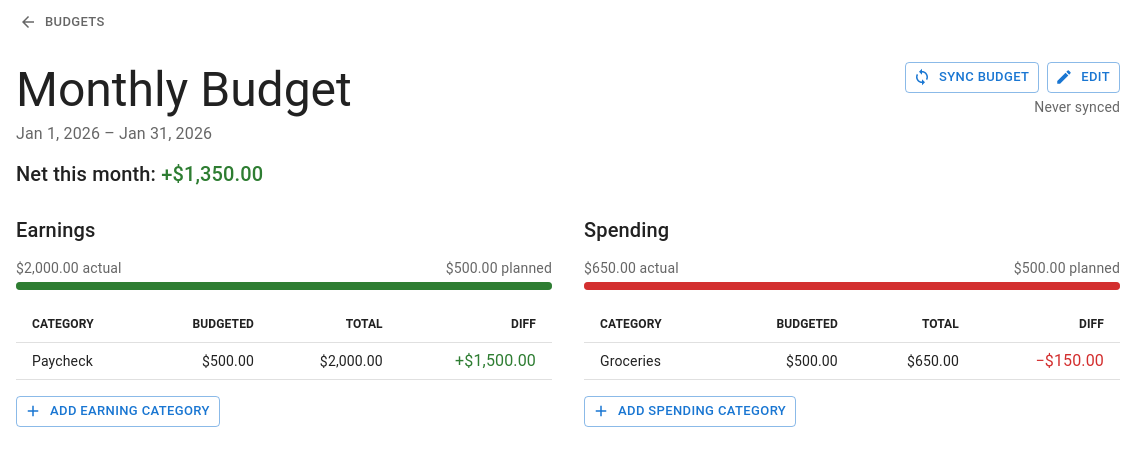
Test: BudgetDetailPage net this month › excludes a staged (not yet confirmed) delete from the net figure
expect the text "+$1,350.00" is shown: met, box [161, 162, 263, 186]
Click the button "Edit". click: coordinates (1084, 77)
box: [1047, 62, 1120, 93]
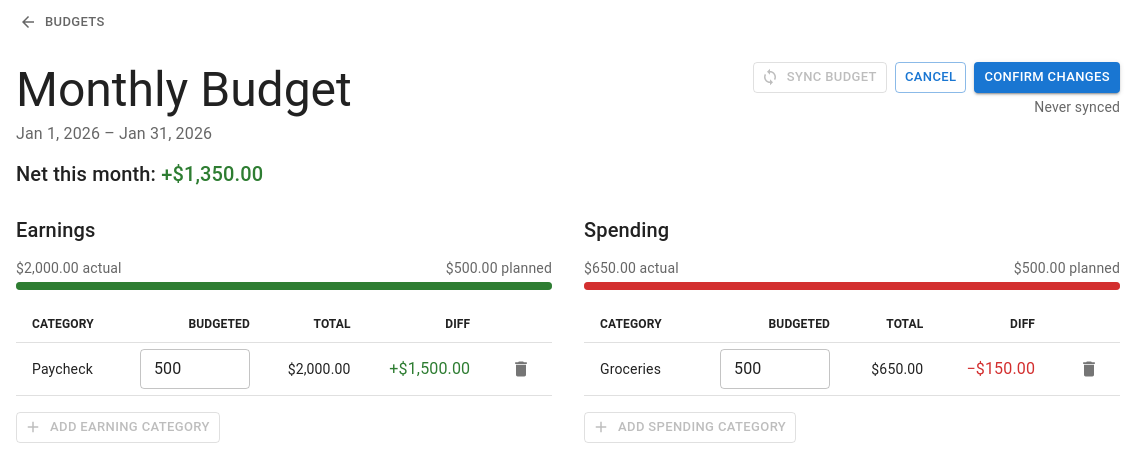
Click the button named "delete groceries". click: coordinates (1089, 369)
box: [1074, 354, 1104, 384]
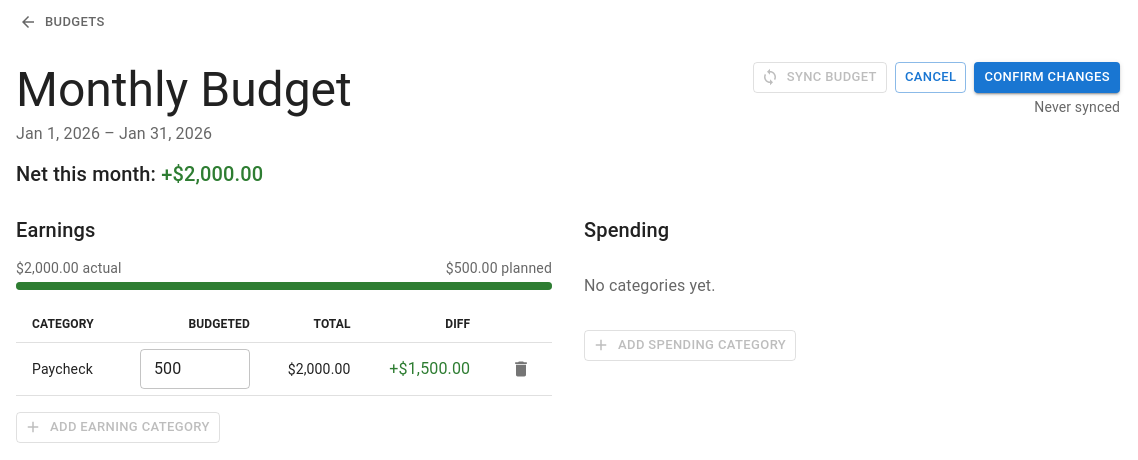
expect the text "+$2,000.00" is shown: met, box [161, 162, 263, 186]
expect the text "+$1,350.00" is gone: met
